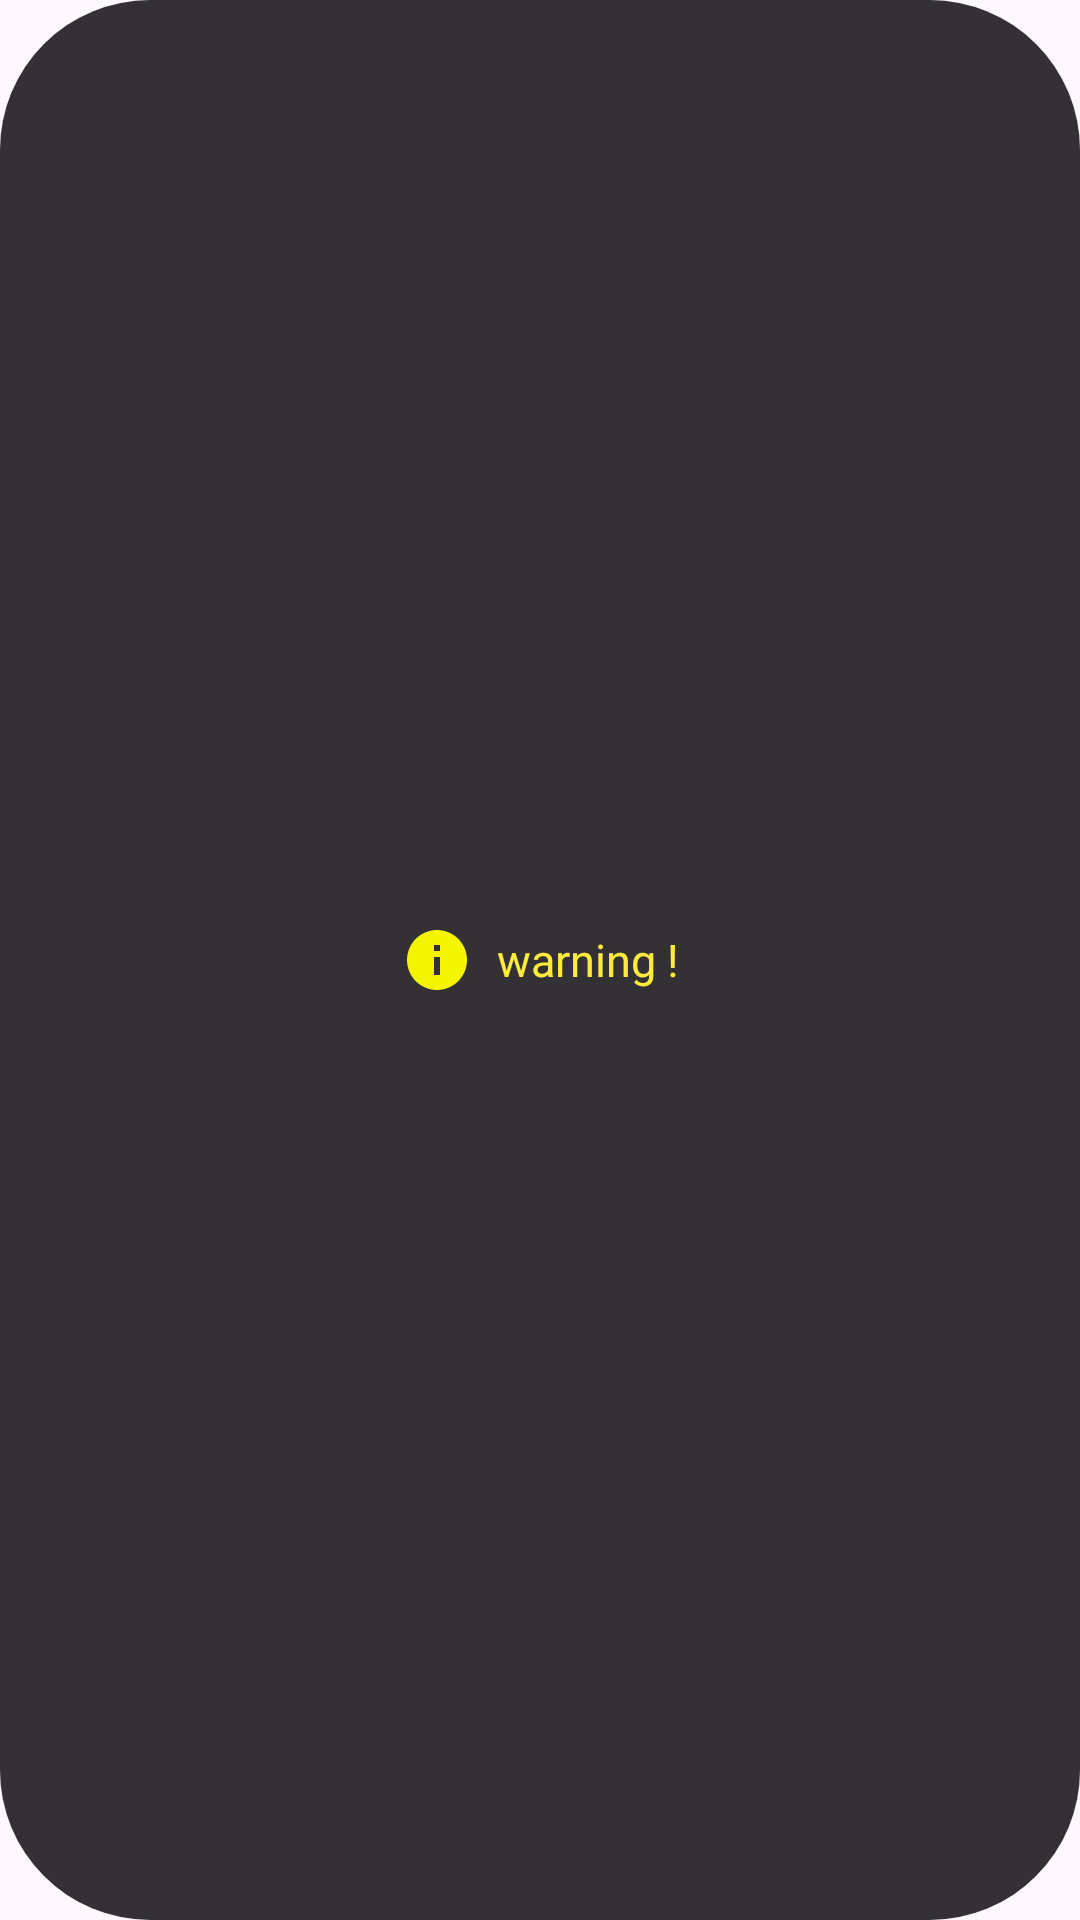

Icons on this 1080*1920 Android screen, each with its box as (x1, y1, x2, y2):
info: (407, 930, 467, 990)
